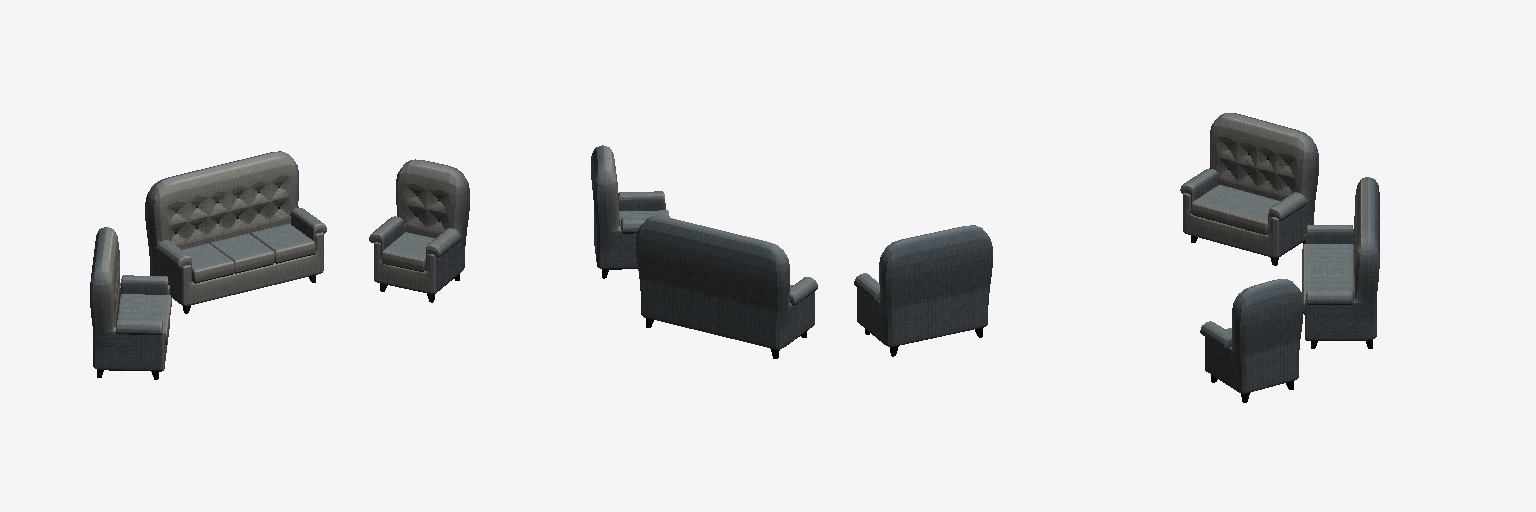
3 views of the same model, side by side, from view 1: azimuth 30°, elevation 25°; view 2: azimuth 150°, elevation 25°; view 3: azimuth 270°, elevation 25° (orthographic).
Size of the model in its own units: 935 by 259 by 415.
Materials: 1 (1 with a texture image).